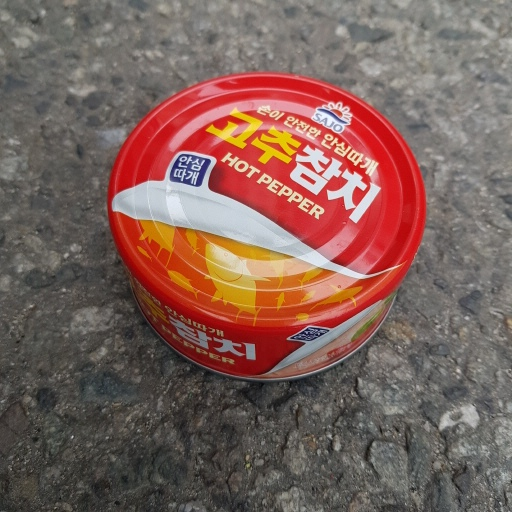Metal_1: (103, 72, 430, 379)
